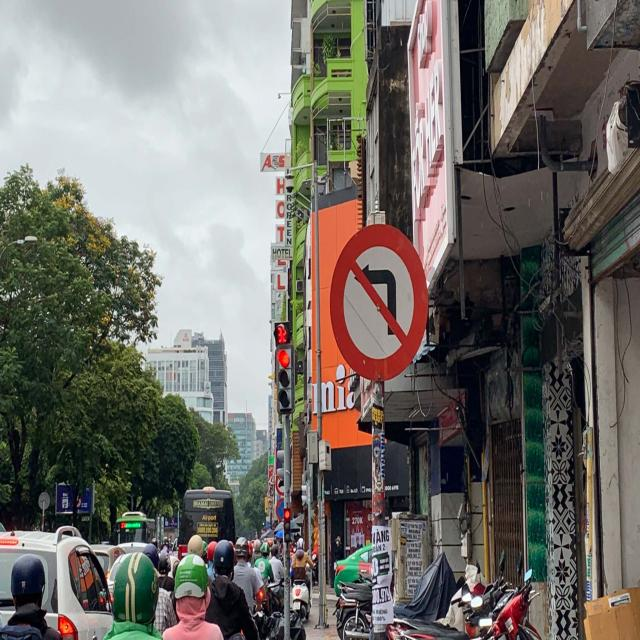Bien bao cam re trai: (314, 207, 441, 393)
